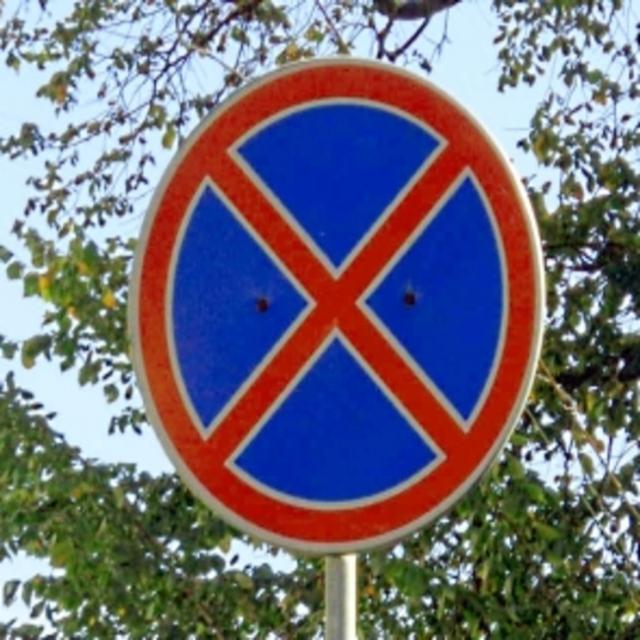no stopping: (124, 52, 549, 566)
